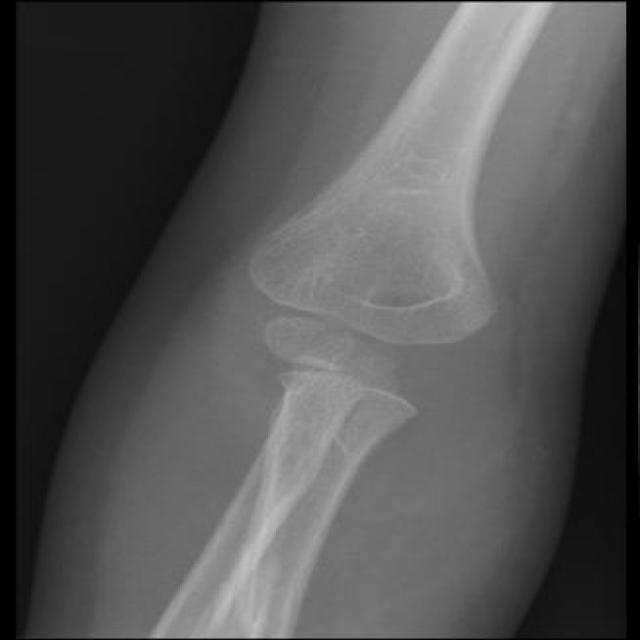Fracture: (223, 206, 527, 449)
